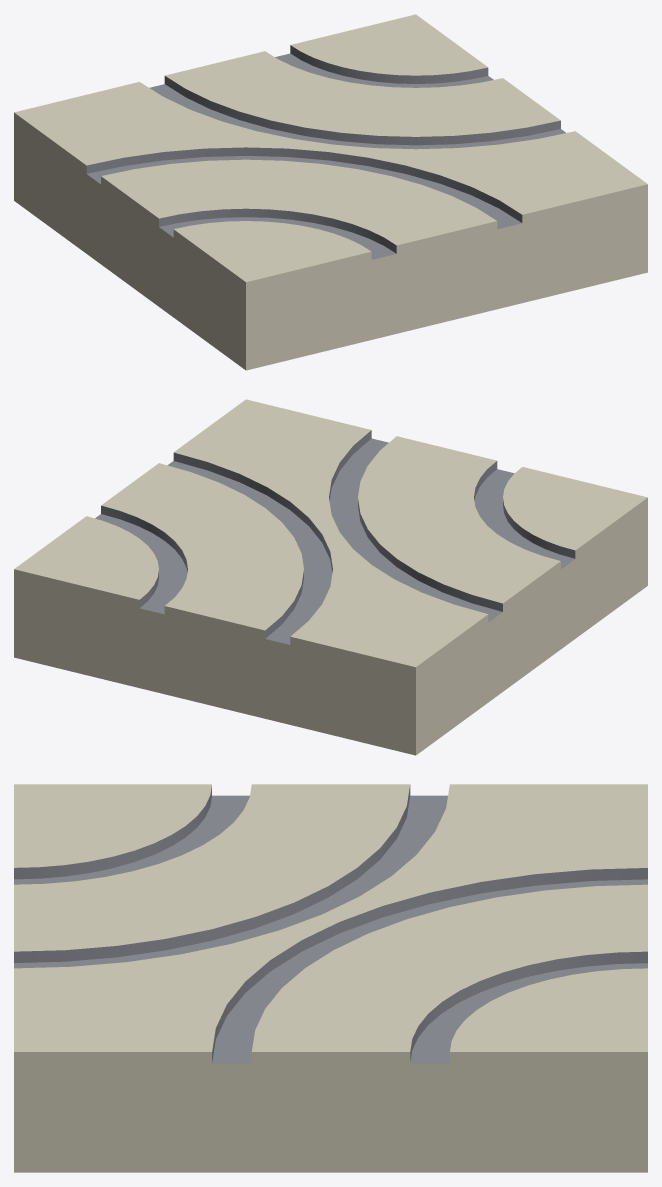
The model's file is tile258.dae.
The picture shows the model from 3 angles, top to bottom: view 1: azimuth 30°, elevation 25°; view 2: azimuth 150°, elevation 25°; view 3: azimuth 270°, elevation 25°; orthographic projection. The views are drawn at different scales.
Parts seen in each view (by area): view 1: tile258; view 2: tile258; view 3: tile258.
Boxes of the visible parts, bbox=[...] form: tile258: bbox=[14, 14, 647, 370]; tile258: bbox=[14, 399, 647, 755]; tile258: bbox=[14, 784, 647, 1172].
Bounding box in the file's own units: 1 × 0.21 × 1.
